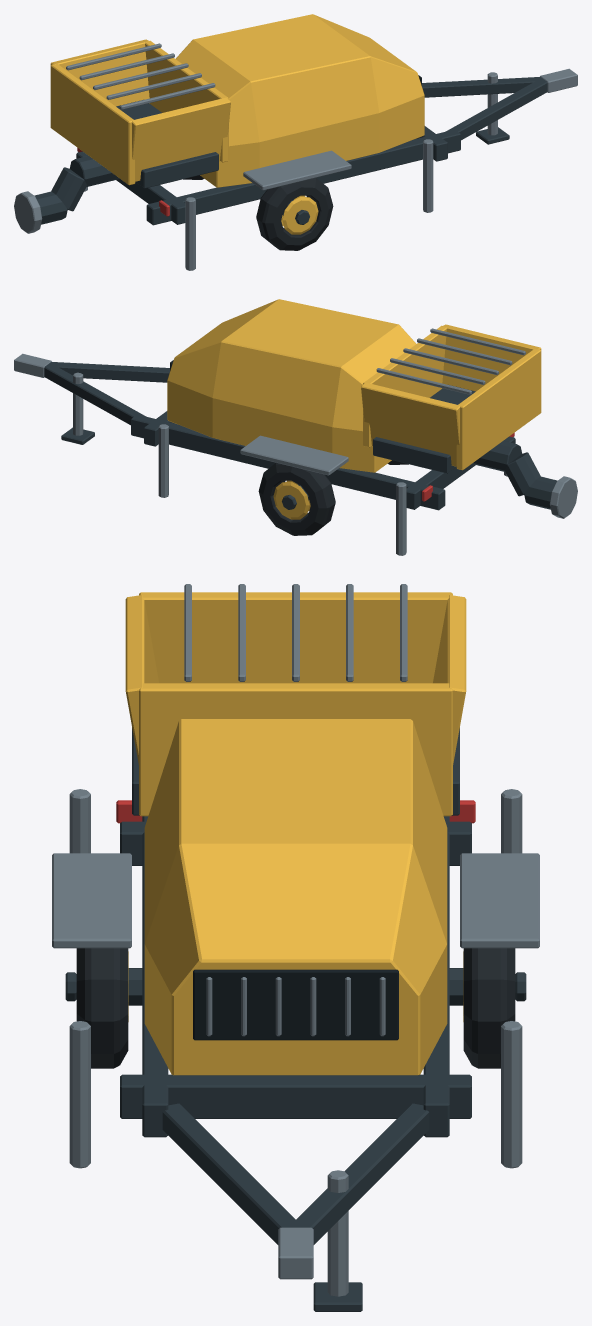
File: b07_trailer_concrete_line_pump.glb
3 views of the same model, one above another, from view 1: azimuth 30°, elevation 25°; view 2: azimuth 150°, elevation 25°; view 3: azimuth 270°, elevation 25° (orthographic). The views are drawn at different scales.
Visible parts, largest first — view 1: b07_trailer_concrete_line_pump; view 2: b07_trailer_concrete_line_pump; view 3: b07_trailer_concrete_line_pump.
Part boxes in pixels (x1=…): b07_trailer_concrete_line_pump: x1=14, y1=14, x2=577, y2=270; b07_trailer_concrete_line_pump: x1=14, y1=299, x2=577, y2=555; b07_trailer_concrete_line_pump: x1=52, y1=584, x2=539, y2=1311.
Size of the model in its own units: 5.42 by 1.55 by 2.08.
